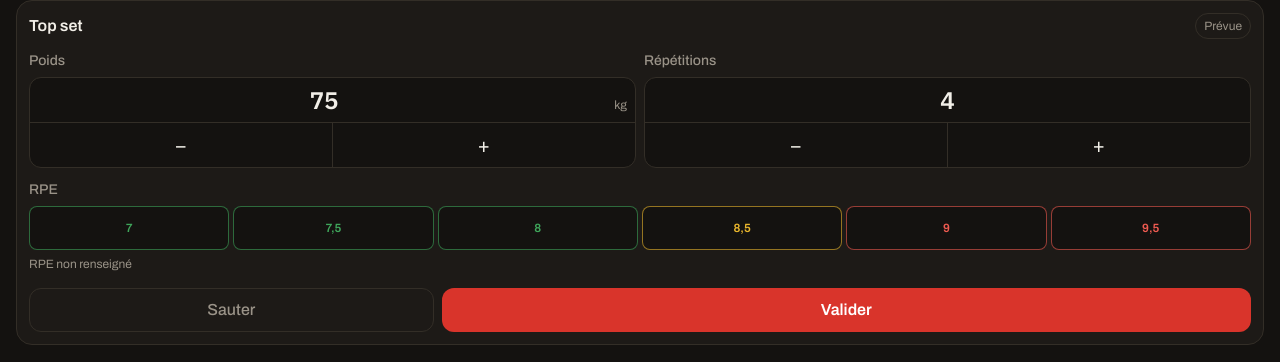
SetCard › rend visible le passage de prévue à saisie
Click the button named "Augmenter Poids de 2,5".
click(484, 145)  # box 332,123 -> 635,167
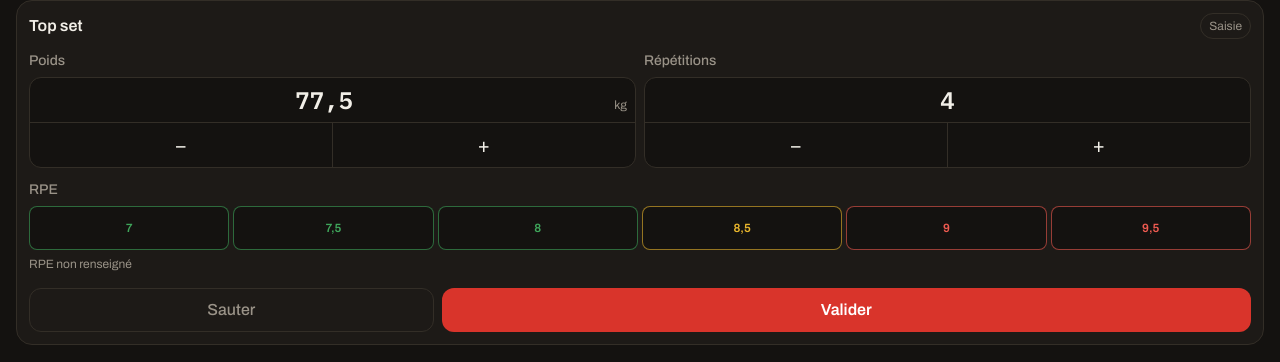
Expected: the text "Saisie" is shown, 1200,13 -> 1251,39
Expected: the field labelled "Poids" holds "77,5", 38,78 -> 610,122
